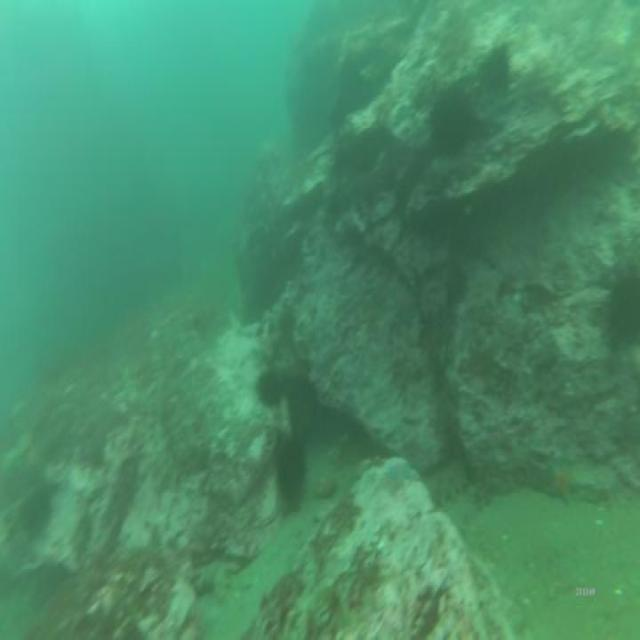echinus: (597, 256, 640, 359), (269, 424, 313, 514), (423, 84, 474, 160), (252, 368, 289, 416)
starfish: (546, 450, 576, 510), (387, 457, 417, 490)
